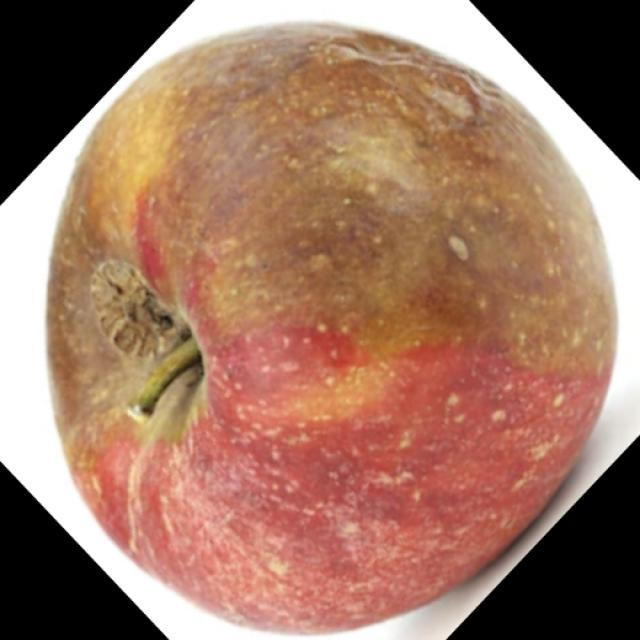Rotten: (56, 6, 602, 626)
